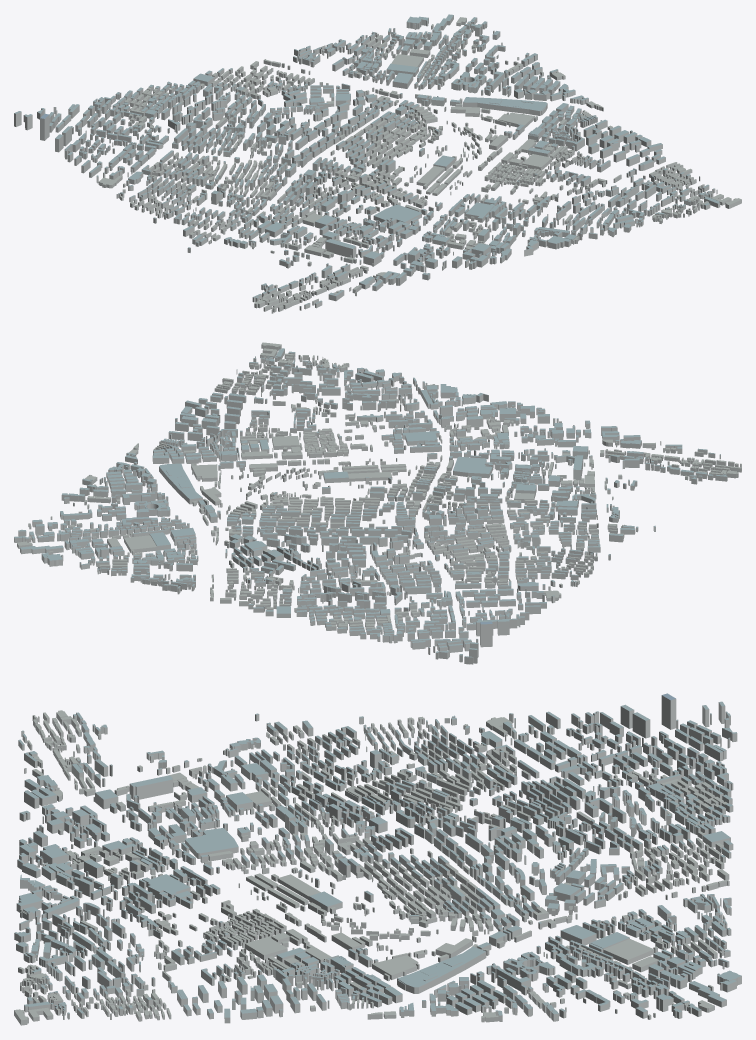
Rendered from far.glb.
The picture shows the model from 3 angles, top to bottom: view 1: azimuth 30°, elevation 25°; view 2: azimuth 150°, elevation 25°; view 3: azimuth 270°, elevation 25°; orthographic projection. The views are drawn at different scales.
Bounding box in the file's own units: 2163 × 96 × 2147.
